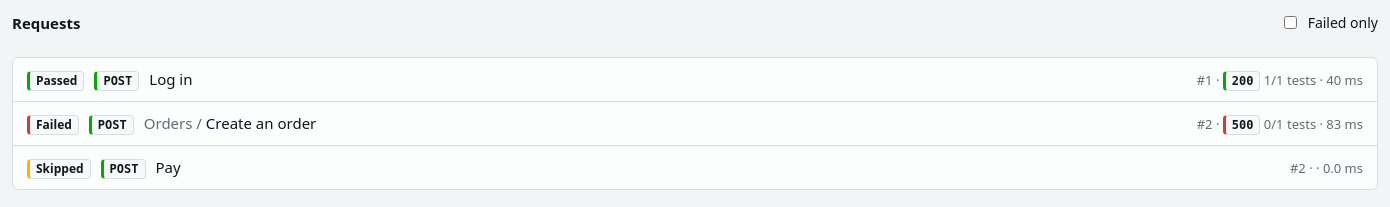
Test: StepList › lists steps with their iterations, and filters to failures
Expected: the number of list items is 3, x1=13 y1=58 x2=1377 y2=100; x1=13 y1=100 x2=1377 y2=144; x1=13 y1=144 x2=1377 y2=188
Expected: the text "#2 ·" is shown 2 times, x1=1197 y1=114 x2=1363 y2=134; x1=1290 y1=158 x2=1363 y2=178
Click the checkbox labelled "Failed only".
click(1290, 22)  # box x1=1284 y1=16 x2=1297 y2=29
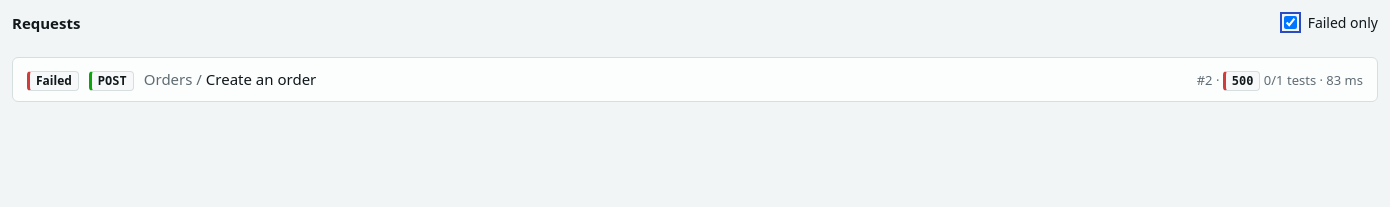
Expected: the text "Create an order" is shown, x1=206 y1=68 x2=316 y2=88
Expected: the number of list items is 1, x1=13 y1=58 x2=1377 y2=100
